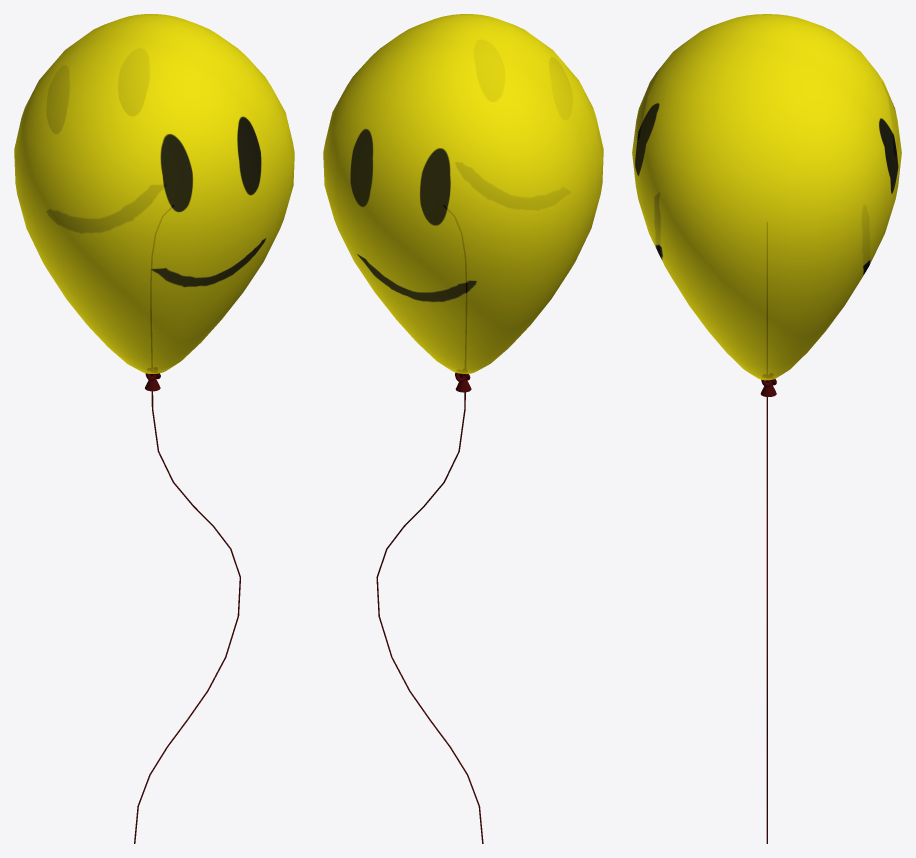
Rendered from indian_smile_balloon.glb.
3 views of the same model, side by side, from view 1: azimuth 30°, elevation 25°; view 2: azimuth 150°, elevation 25°; view 3: azimuth 270°, elevation 25° (orthographic).
Parts seen in each view (by area): view 1: Sphere001, Line001; view 2: Sphere001, Line001; view 3: Sphere001, Line001.
Part boxes in pixels (x1,y1,x2,y2): Sphere001: (14, 14, 294, 373); Line001: (134, 205, 240, 843); Sphere001: (323, 14, 603, 373); Line001: (376, 206, 483, 843); Sphere001: (632, 14, 901, 380); Line001: (766, 222, 767, 843).
Bounding box in the file's own units: 0.4764 × 1.54 × 0.4533.
Materials: 2 (1 with a texture image).
